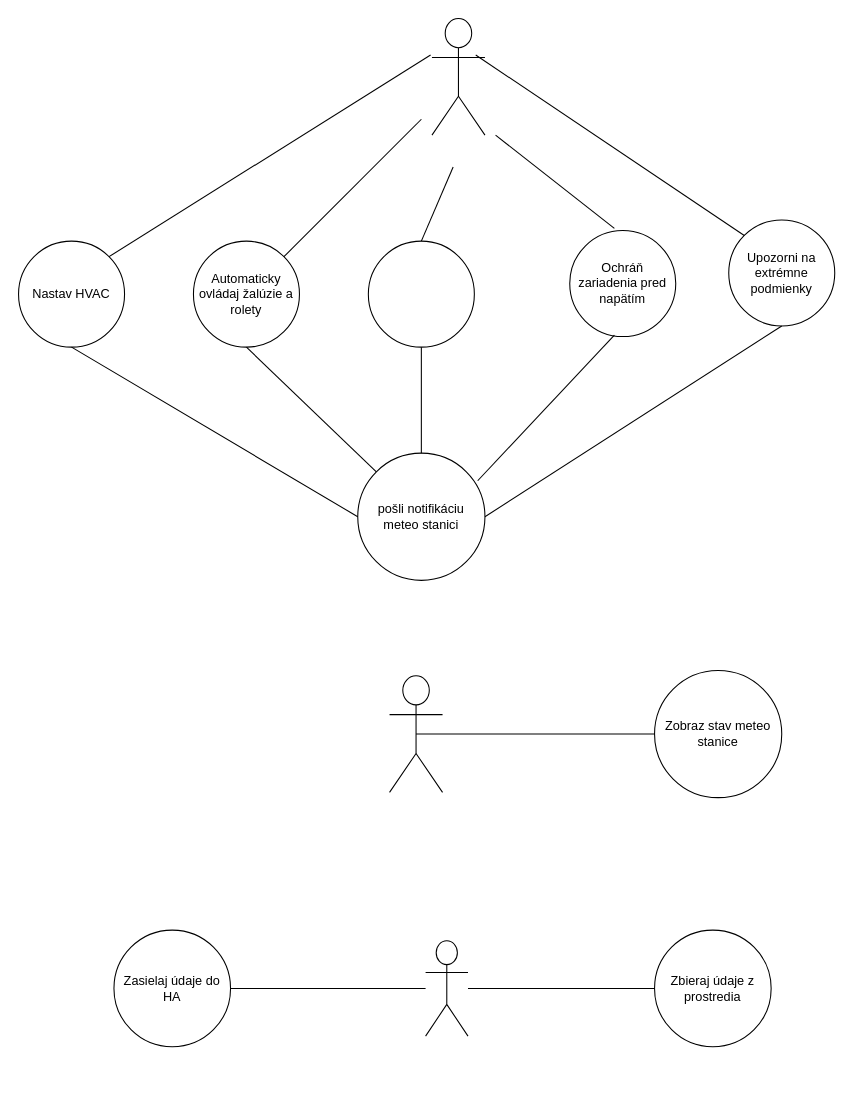
The diagram is 853 pixels wide and 1093 high, and some of its shapes have lost their labels. Each missing label, with the box of its shape:
HA: (431, 17, 485, 135)
Meteo stanica: (425, 940, 468, 1036)
Ovládaj zavlažovací systém: (367, 240, 474, 347)
Pouzivatel: (388, 675, 443, 792)
